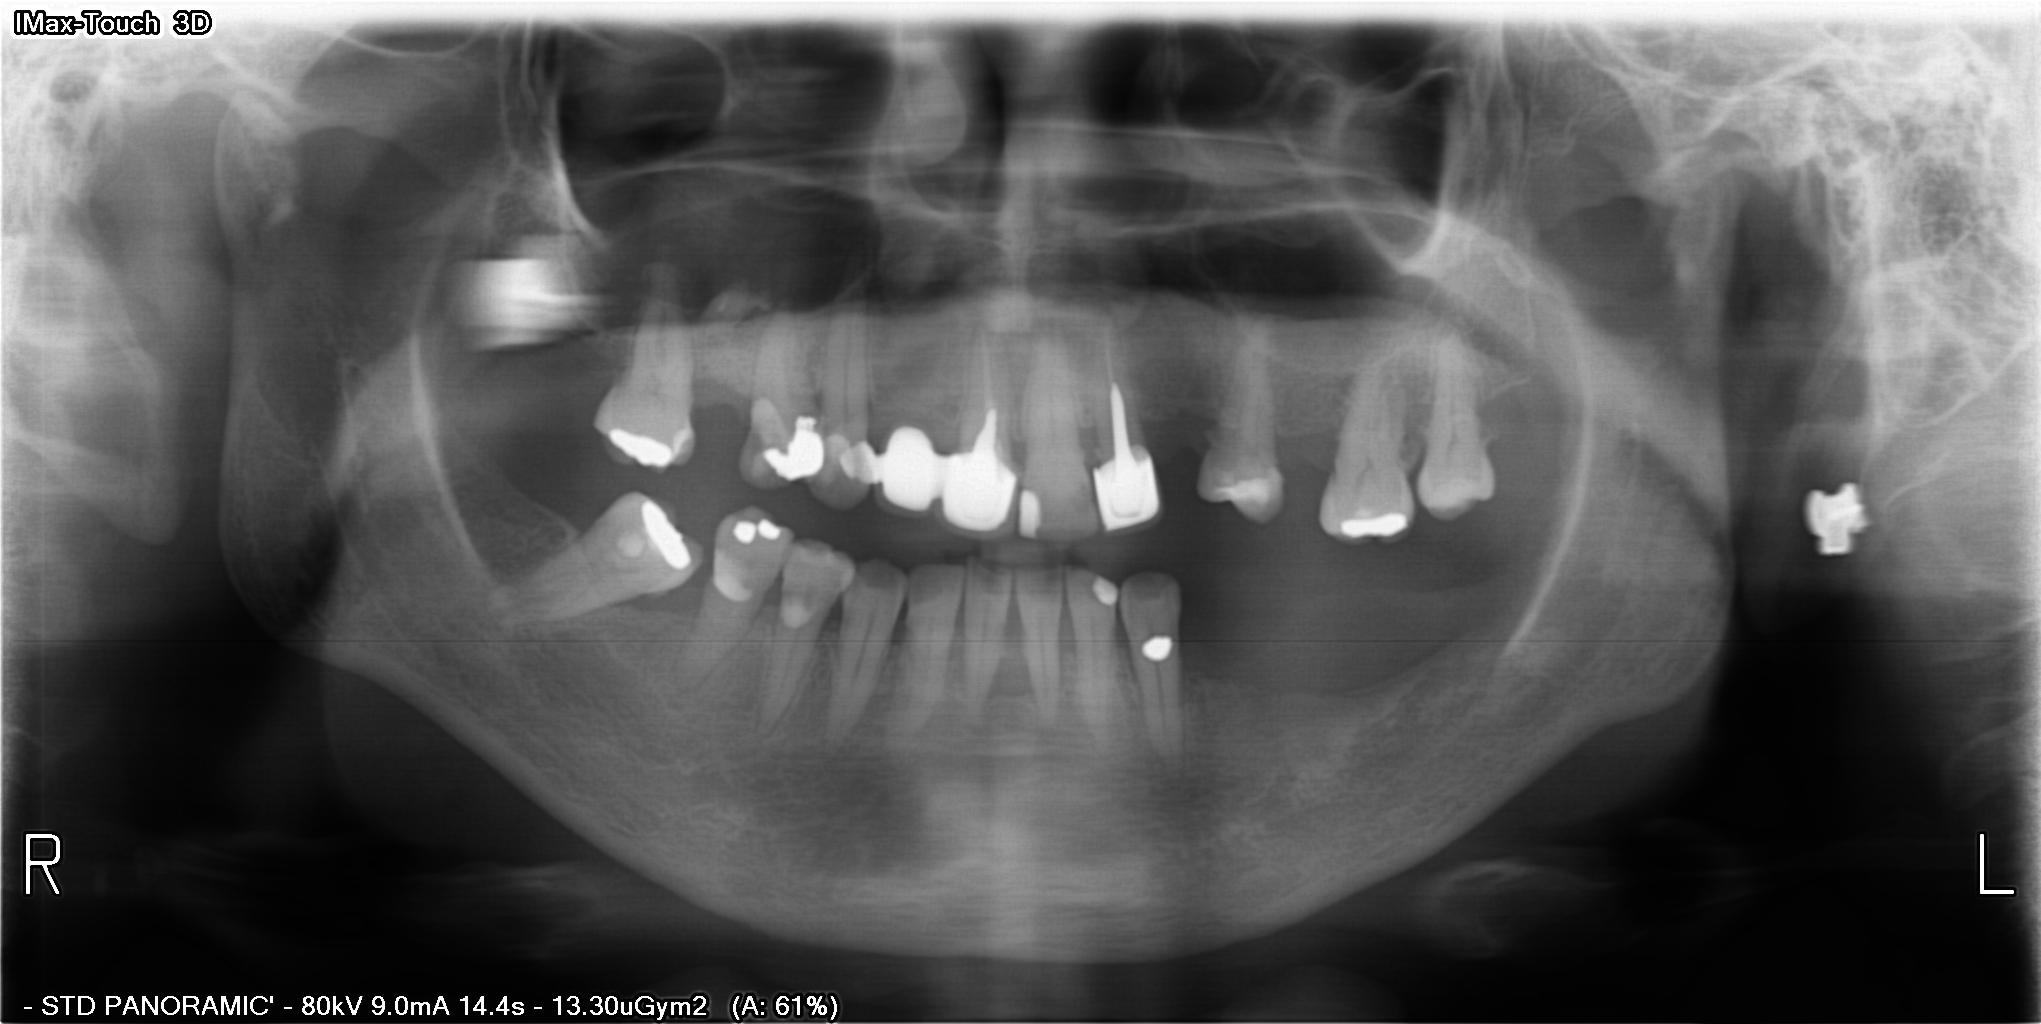Çürük: (935, 452, 1016, 528), (760, 414, 827, 485), (883, 428, 939, 512), (1096, 468, 1163, 534), (599, 427, 687, 475), (636, 499, 692, 571), (837, 430, 878, 488), (1342, 509, 1406, 538), (1021, 491, 1042, 538), (1145, 636, 1177, 661), (726, 521, 757, 545), (757, 517, 783, 542), (1097, 577, 1116, 603)
Çürük Bölgesi: (777, 603, 808, 632), (1081, 579, 1102, 606), (1090, 456, 1105, 481)
